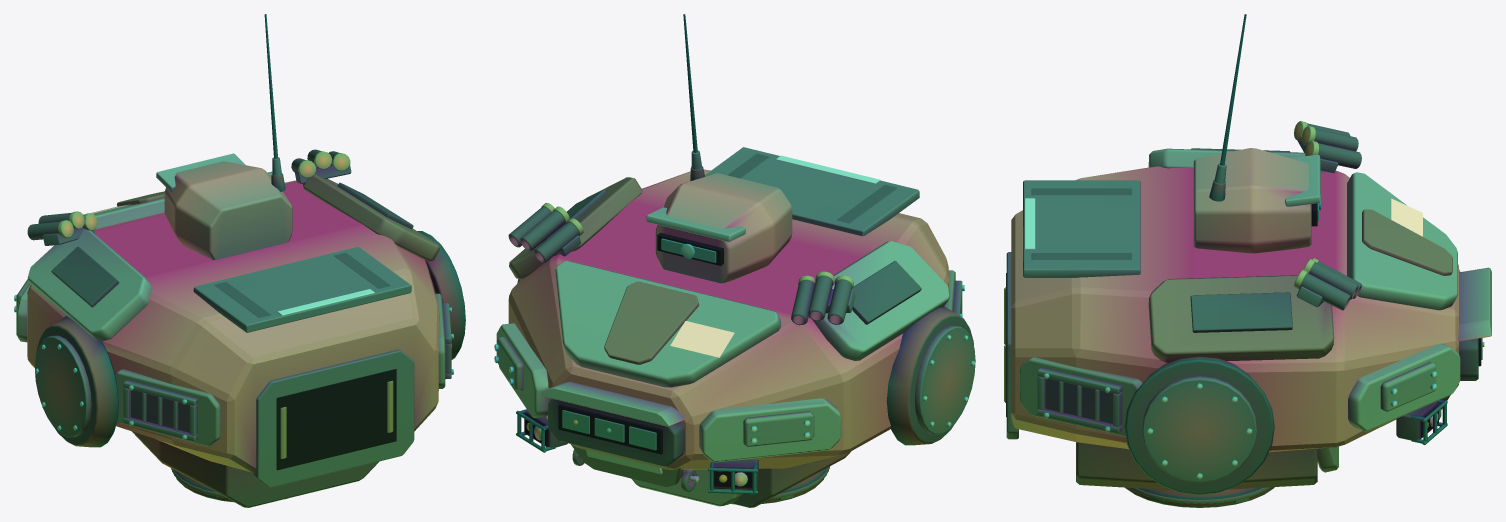
The model's file is core_assault.glb.
3 views of the same model, side by side, from view 1: azimuth 30°, elevation 25°; view 2: azimuth 150°, elevation 25°; view 3: azimuth 270°, elevation 25° (orthographic). The views are drawn at different scales.
Parts seen in each view (by area): view 1: Body__armor_sub, Body__gunmetal, Body__dark, Body__armor, Body__bore, Body__armor_oxide, Body__brass, Body__copper, Body__hazard; view 2: Body__armor_sub, Body__armor, Body__dark, Body__gunmetal, Body__armor_oxide, Body__bore, Body__glass, Body__decal, Body__hazard, Body__brass, Body__chrome; view 3: Body__armor_sub, Body__dark, Body__gunmetal, Body__armor, Body__armor_oxide, Body__brass, Body__decal, Body__chrome, Body__hazard, Body__bore.
Part boxes in pixels (bbox=[...]): Body__armor_sub: bbox=[16, 161, 445, 472]; Body__gunmetal: bbox=[35, 157, 451, 497]; Body__dark: bbox=[27, 14, 465, 507]; Body__armor: bbox=[16, 153, 272, 342]; Body__bore: bbox=[276, 369, 396, 470]; Body__armor_oxide: bbox=[117, 174, 439, 261]; Body__brass: bbox=[58, 151, 350, 238]; Body__copper: bbox=[280, 380, 393, 458]; Body__hazard: bbox=[277, 289, 374, 315]; Body__armor_sub: bbox=[496, 169, 955, 506]; Body__armor: bbox=[496, 207, 949, 462]; Body__dark: bbox=[508, 14, 973, 507]; Body__gunmetal: bbox=[516, 147, 975, 500]; Body__armor_oxide: bbox=[509, 177, 699, 364]; Body__bore: bbox=[525, 233, 752, 487]; Body__glass: bbox=[562, 238, 716, 450]; Body__decal: bbox=[670, 321, 734, 357]; Body__hazard: bbox=[586, 155, 880, 474]; Body__brass: bbox=[541, 203, 853, 288]; Body__chrome: bbox=[494, 285, 975, 482]; Body__armor_sub: bbox=[1011, 148, 1458, 472]; Body__dark: bbox=[1031, 14, 1478, 507]; Body__gunmetal: bbox=[1006, 140, 1447, 503]; Body__armor: bbox=[1148, 148, 1491, 431]; Body__armor_oxide: bbox=[1148, 209, 1452, 362]; Body__brass: bbox=[1294, 121, 1319, 289]; Body__decal: bbox=[1391, 198, 1422, 236]; Body__chrome: bbox=[1043, 371, 1437, 479]; Body__hazard: bbox=[1024, 198, 1035, 249]; Body__bore: bbox=[1006, 203, 1481, 437].
Size of the model in its own units: 1.65 by 1.79 by 1.66.
